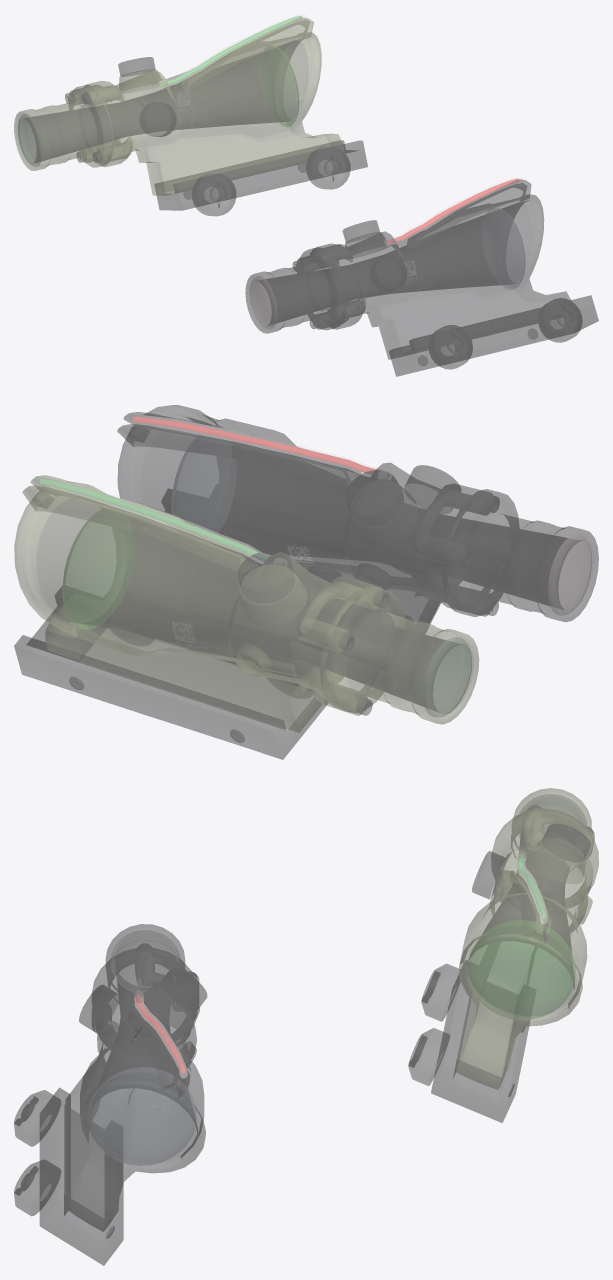
The model's file is acog_scope.glb.
The picture shows the model from 3 angles, top to bottom: view 1: azimuth 30°, elevation 25°; view 2: azimuth 150°, elevation 25°; view 3: azimuth 270°, elevation 25°; orthographic projection. The views are drawn at different scales.
Parts seen in each view (by area): view 1: acog.001, acog, glass front, glass front.001; view 2: acog.001, acog, glass front.001, glass front; view 3: acog, acog.001, glass back.001, glass back.
Boxes of the visible parts, x1,y1,x2,y2 form: acog.001: (14, 15, 367, 215); acog: (245, 178, 598, 376); glass front: (250, 276, 276, 328); glass front.001: (18, 114, 41, 166); acog.001: (14, 475, 478, 759); acog: (117, 405, 598, 633); glass front.001: (423, 637, 471, 716); glass front: (548, 534, 591, 615); acog: (14, 924, 206, 1265); acog.001: (408, 788, 598, 1122); glass back.001: (468, 920, 575, 1020); glass back: (88, 1067, 196, 1165).
Size of the model in its own units: 4.4 by 2.46 by 4.55.
Materials: 8 (4 with a texture image).
